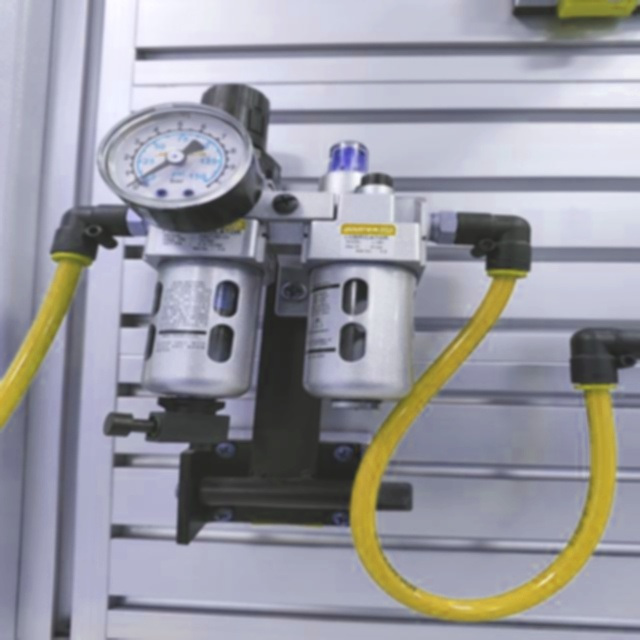FRL unit: (54, 76, 510, 552)
push button: (95, 100, 265, 232)
